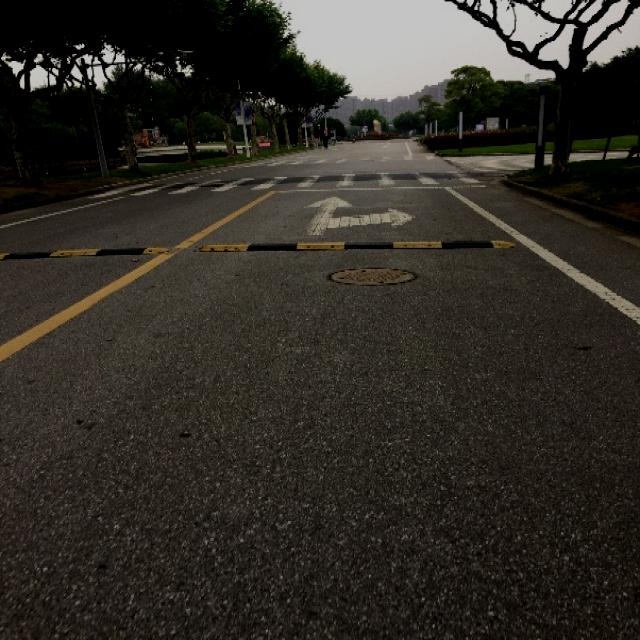Speed Bump: (196, 236, 516, 252), (0, 242, 169, 259)
